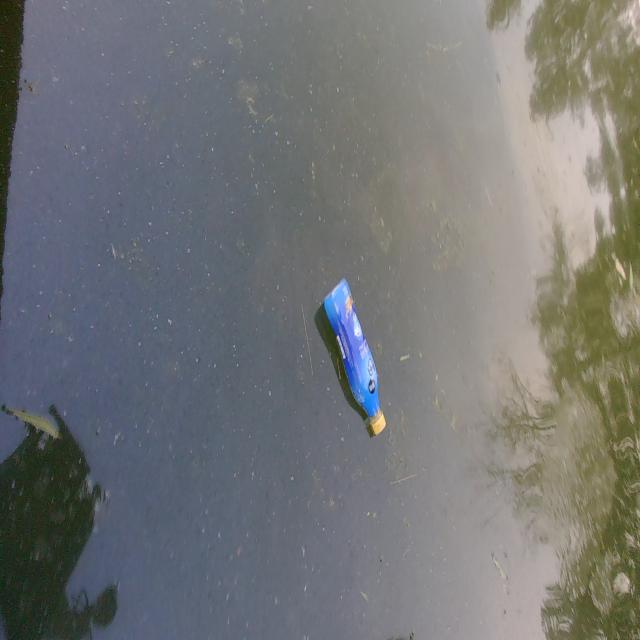Bottle: (319, 272, 389, 439)
